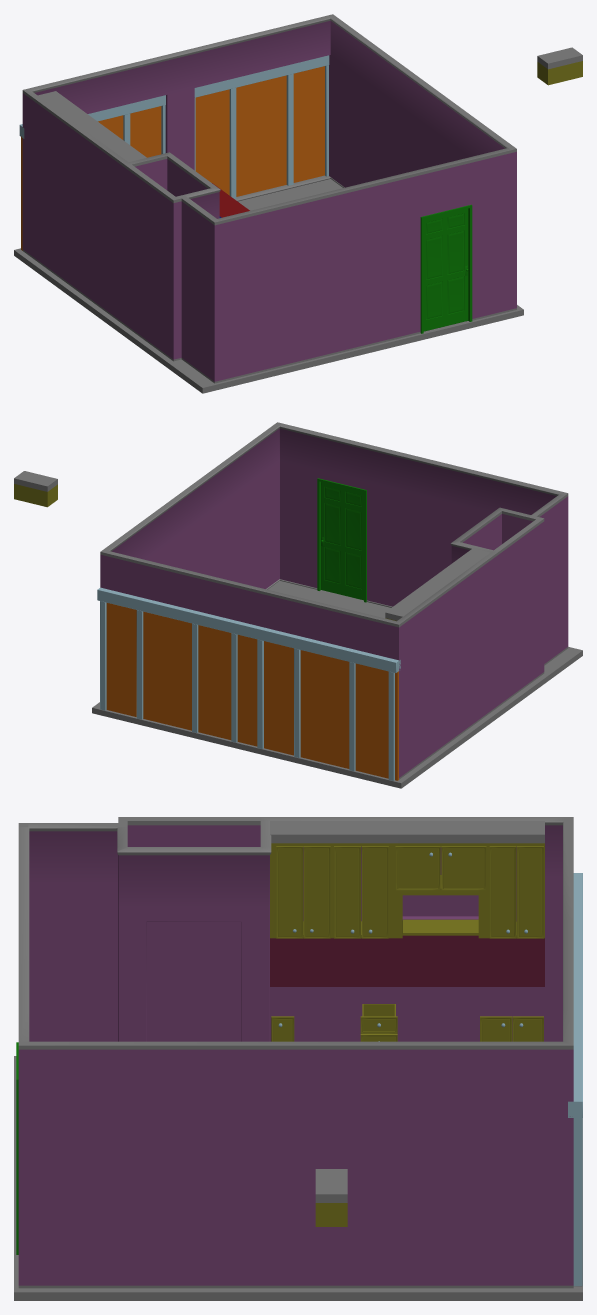
The model's file is FloorPlan10.fbx.
3 views of the same model, one above another, from view 1: azimuth 30°, elevation 25°; view 2: azimuth 150°, elevation 25°; view 3: azimuth 270°, elevation 25° (orthographic). The views are drawn at different scales.
Visible parts, largest first — view 1: StandardWallSize, WindowGlass, Floor, StandardDoor1, WindowStructure, StandardUpperCabinetHeightWidth, StandardUpperCabinetWindow, StandardDoorFrame1, StandardIslandHeight2; view 2: StandardWallSize, WindowGlass, WindowStructure, Floor, StandardDoor1, StandardUpperCabinetHeightWidth, StandardUpperCabinetWindow, StandardDoorFrame1; view 3: StandardWallSize, StandardWallTileHeight1, StandardUpperCabinetHeightWidth, Floor, WindowStructure, CabinetDoorBase3 (10) (2), CabinetDoorBase3 (8) (2) (2), CabinetDoorBase3 (8), CabinetDoorBase3 (10), CabinetDoorBase3 (7), CabinetDoorBase3 (8) (2), CabinetDoorBase3 (13) (+7 smaller).
Boxes of the visible parts, x1,y1,x2,y2 form: StandardWallSize: [22, 14, 516, 383]; WindowGlass: [21, 66, 324, 250]; Floor: [14, 179, 523, 393]; StandardDoor1: [423, 208, 468, 331]; WindowStructure: [19, 55, 329, 198]; StandardUpperCabinetHeightWidth: [38, 91, 146, 162]; StandardUpperCabinetWindow: [537, 47, 582, 85]; StandardDoorFrame1: [420, 204, 472, 333]; StandardIslandHeight2: [212, 183, 249, 217]; StandardWallSize: [100, 422, 568, 779]; WindowGlass: [106, 603, 398, 780]; WindowStructure: [97, 587, 400, 780]; Floor: [92, 581, 582, 788]; StandardDoor1: [321, 482, 363, 600]; StandardUpperCabinetHeightWidth: [385, 548, 490, 621]; StandardUpperCabinetWindow: [14, 471, 57, 507]; StandardDoorFrame1: [317, 478, 366, 602]; StandardWallSize: [18, 817, 573, 1288]; StandardWallTileHeight1: [270, 935, 544, 986]; StandardUpperCabinetHeightWidth: [270, 821, 544, 938]; Floor: [14, 1056, 582, 1300]; WindowStructure: [568, 873, 582, 1286]; CabinetDoorBase3 (10) (2): [303, 846, 330, 938]; CabinetDoorBase3 (8) (2) (2): [276, 846, 303, 938]; CabinetDoorBase3 (8): [489, 846, 516, 938]; CabinetDoorBase3 (10): [361, 846, 388, 938]; CabinetDoorBase3 (7): [517, 846, 543, 938]; CabinetDoorBase3 (8) (2): [334, 846, 360, 938]; CabinetDoorBase3 (13): [441, 846, 486, 890].
Size of the model in its own units: 882 by 292 by 600.
